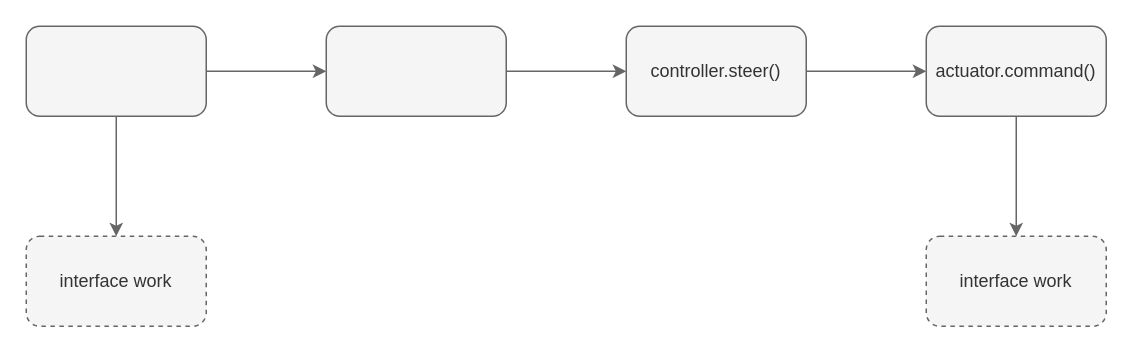
The diagram is 1133 pixels wide and 353 high, and some of its shapes have lost their labels. The shapes that lost their labels are listed below. From the top down, each one's centre as x and y in pixels, then its label:
pixel 115 70: sensor.read()
pixel 415 70: estimator.estimate()
